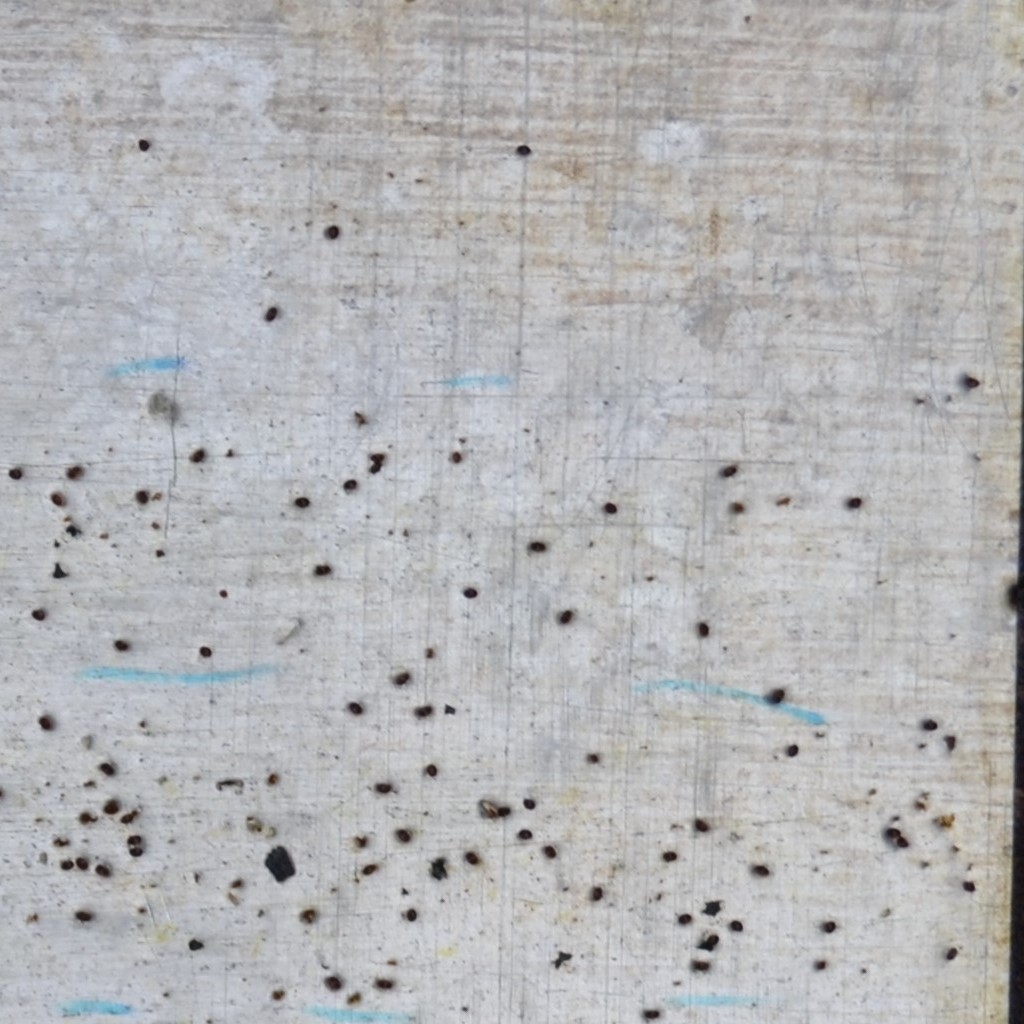varroa: (34, 711, 55, 734), (639, 1004, 662, 1022), (961, 372, 979, 394), (66, 462, 85, 482), (541, 840, 560, 860), (98, 759, 117, 779), (530, 537, 547, 559), (94, 861, 112, 881), (49, 489, 68, 507), (769, 682, 785, 703), (693, 814, 708, 836), (460, 584, 479, 601), (959, 878, 978, 895), (675, 909, 694, 926), (102, 799, 119, 818), (423, 761, 440, 780), (325, 222, 341, 242), (721, 460, 737, 480), (922, 715, 937, 736), (944, 942, 959, 963), (190, 446, 204, 468), (515, 141, 533, 158), (728, 498, 745, 516), (394, 668, 411, 686), (324, 975, 342, 992), (293, 494, 312, 510), (345, 699, 364, 715), (691, 957, 711, 972), (113, 638, 130, 655), (8, 465, 24, 483), (660, 849, 678, 865), (75, 906, 93, 922), (263, 303, 278, 322), (558, 606, 573, 625), (136, 137, 152, 154), (602, 499, 618, 516), (395, 826, 411, 843), (823, 915, 838, 933), (404, 905, 419, 923), (134, 488, 148, 507), (846, 495, 865, 509), (698, 618, 709, 642), (376, 976, 392, 992), (30, 605, 47, 620), (58, 857, 75, 872), (374, 781, 392, 795), (590, 883, 603, 902), (884, 823, 900, 838), (728, 917, 744, 932), (126, 830, 141, 846), (704, 929, 719, 945), (342, 476, 359, 490), (197, 644, 212, 659), (813, 957, 828, 972), (369, 449, 386, 462), (522, 794, 535, 811), (449, 448, 462, 464), (76, 855, 89, 871), (786, 743, 798, 760), (516, 828, 533, 840), (129, 844, 143, 858), (78, 810, 91, 825), (119, 814, 135, 826), (897, 835, 910, 849)
